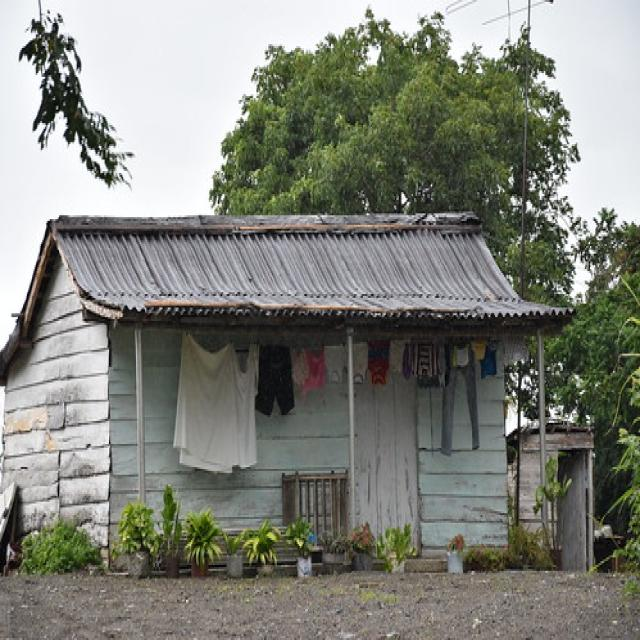building: (2, 198, 580, 578)
